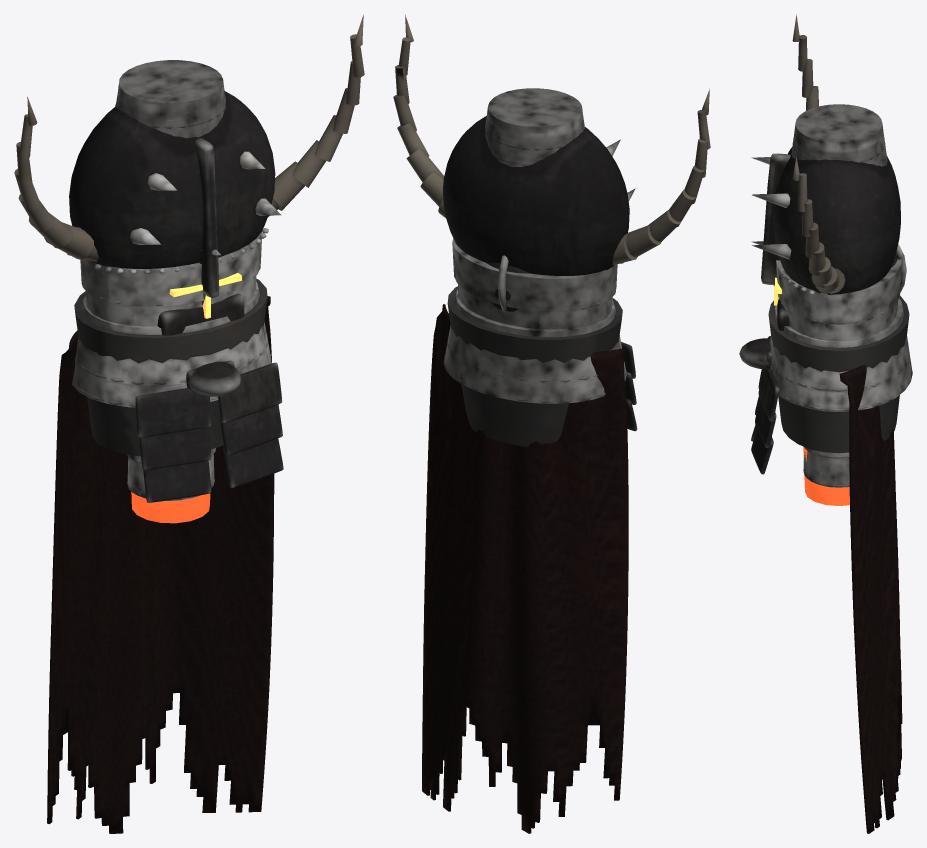
The model's file is boss.glb.
3 renders of one model, left to right at view 1: azimuth 30°, elevation 25°; view 2: azimuth 150°, elevation 25°; view 3: azimuth 270°, elevation 25°, orthographic. The views are drawn at different scales.
Parts seen in each view (by area): view 1: cloak, torso, pelvis, head, thigh, foot; view 2: cloak, torso, pelvis, head; view 3: torso, cloak, pelvis, head, thigh, foot.
Boxes of the visible parts, x1=… form: cloak: x1=47, y1=296, x2=274, y2=833; torso: x1=69, y1=60, x2=281, y2=326; pelvis: x1=72, y1=278, x2=283, y2=502; head: x1=14, y1=15, x2=364, y2=335; thigh: x1=127, y1=448, x2=215, y2=523; foot: x1=186, y1=360, x2=241, y2=396; cloak: x1=422, y1=304, x2=628, y2=833; torso: x1=443, y1=88, x2=635, y2=329; pelvis: x1=443, y1=286, x2=637, y2=446; head: x1=393, y1=14, x2=710, y2=312; torso: x1=751, y1=104, x2=901, y2=341; cloak: x1=839, y1=365, x2=902, y2=833; pelvis: x1=751, y1=295, x2=912, y2=474; head: x1=773, y1=14, x2=906, y2=330; thigh: x1=803, y1=446, x2=849, y2=505; foot: x1=739, y1=336, x2=771, y2=369.
Size of the model in its own units: 0.8588 by 1.94 by 0.4331.
1 material, 1 textured.
